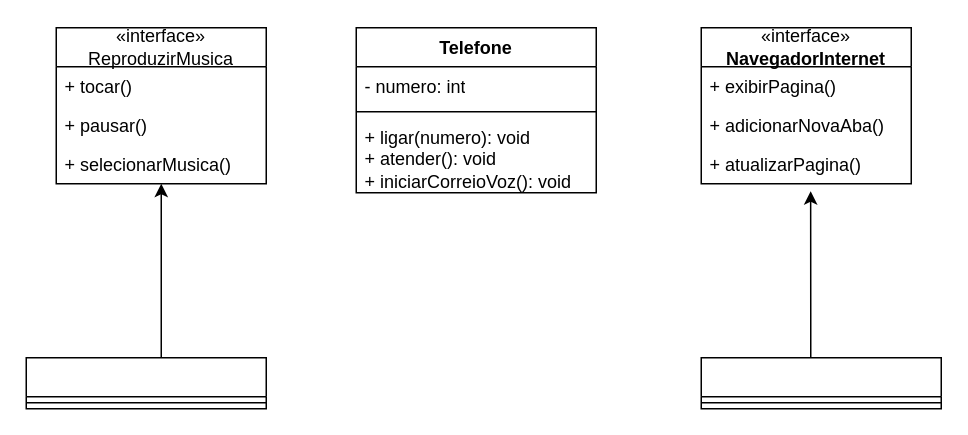
Some shapes in this 968 by 435 pixel diagram are drawn without their labels. Here are the shapes that lost their labels. From the top down, the centre of each, then its label:
At [145,382]: "iPode".
At [820,382]: "Safari".
